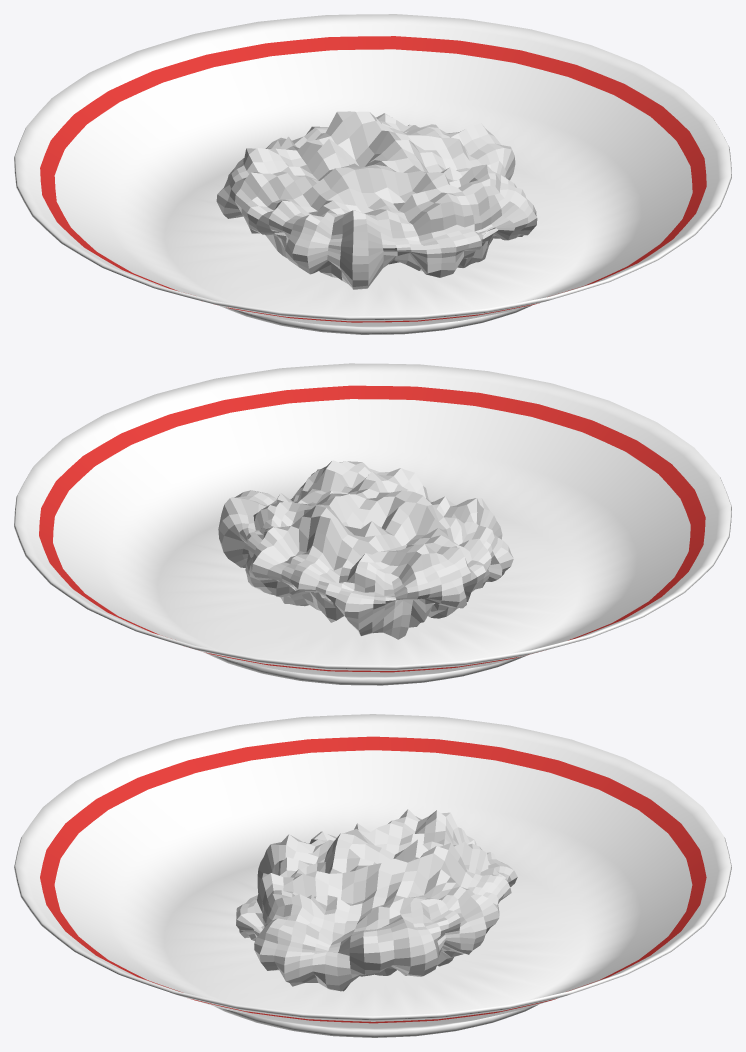
Rendered from pork.fbx.
3 views of the same model, one above another, from view 1: azimuth 30°, elevation 25°; view 2: azimuth 150°, elevation 25°; view 3: azimuth 270°, elevation 25° (orthographic).
Parts seen in each view (by area): view 1: DishPork, Pork; view 2: DishPork, Pork; view 3: DishPork, Pork.
Boxes of the visible parts, left/top/right/bottom form: DishPork: left=14, top=14, right=731, bottom=334; Pork: left=216, top=111, right=537, bottom=289; DishPork: left=14, top=363, right=731, bottom=685; Pork: left=218, top=460, right=513, bottom=639; DishPork: left=14, top=714, right=731, bottom=1037; Pork: left=236, top=809, right=517, bottom=991.
Bounding box in the file's own units: 400 × 70.31 × 400.
2 materials, 1 textured.
